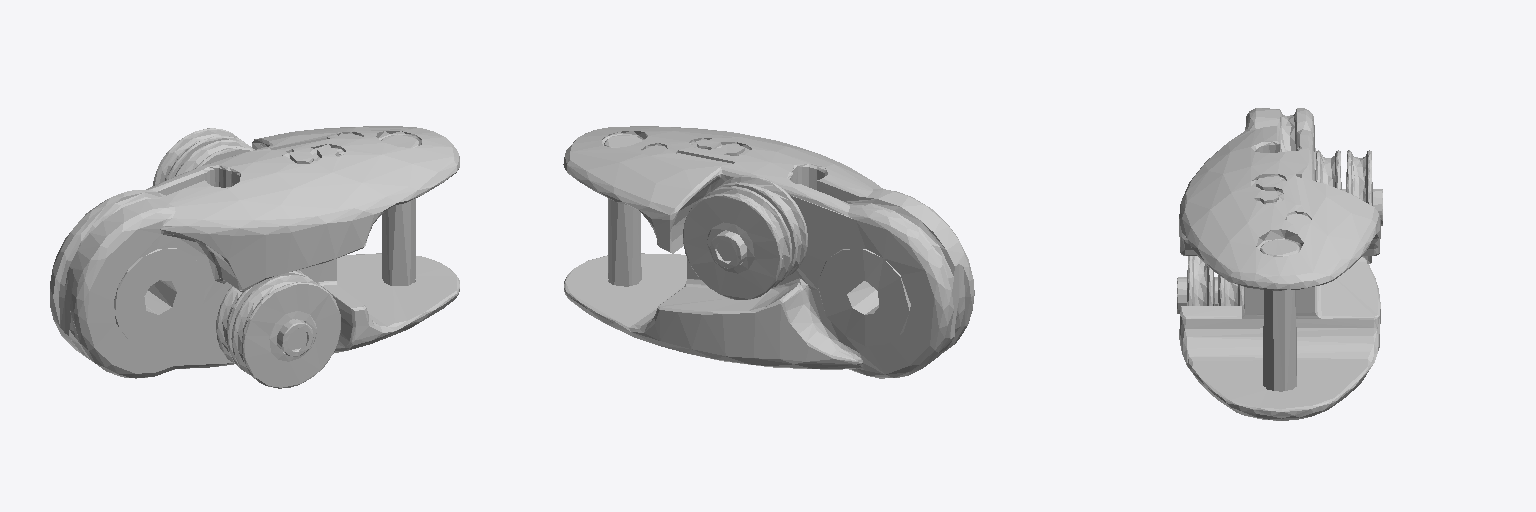
The model's file is Body_Decimated.obj.
3 views of the same model, side by side, from view 1: azimuth 30°, elevation 25°; view 2: azimuth 150°, elevation 25°; view 3: azimuth 270°, elevation 25° (orthographic).
Visible parts, largest first — view 1: logobody040; view 2: logobody040; view 3: logobody040.
Part boxes in pixels (x1,y1,x2,y2): logobody040: (50,126,459,388); logobody040: (563,126,974,378); logobody040: (1177,108,1382,420).
Size of the model in its own units: 13.58 by 6.41 by 6.25.